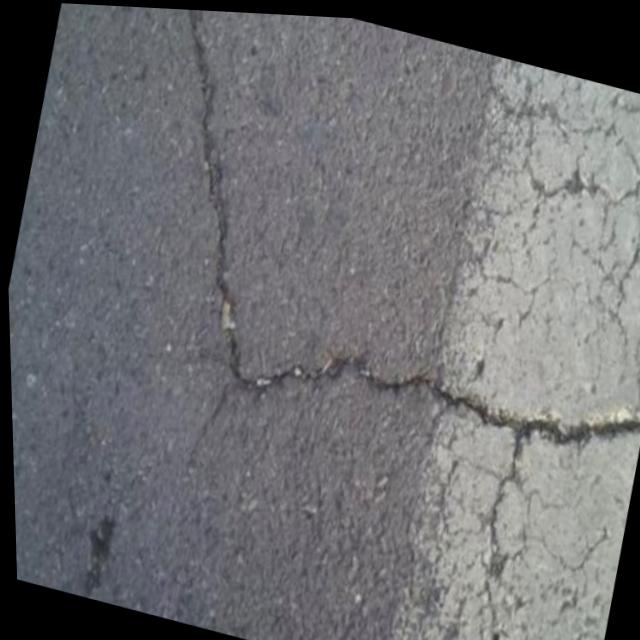Crack: (91, 4, 333, 401), (216, 295, 640, 493)
